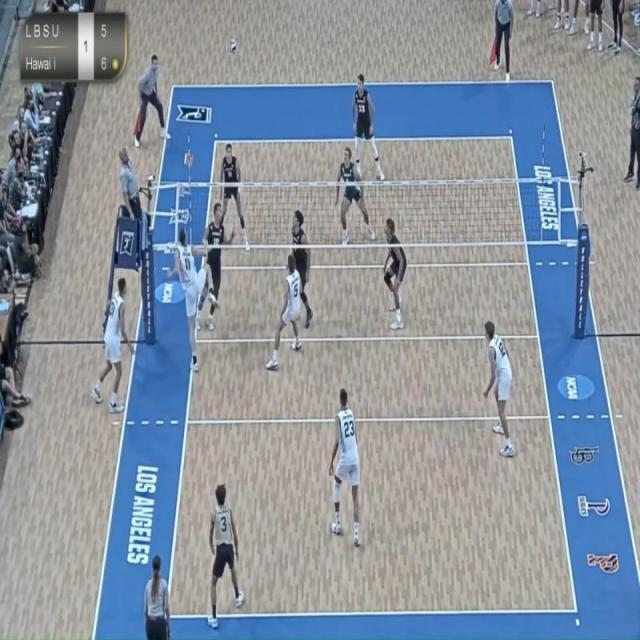volleyball: (225, 34, 240, 57)
